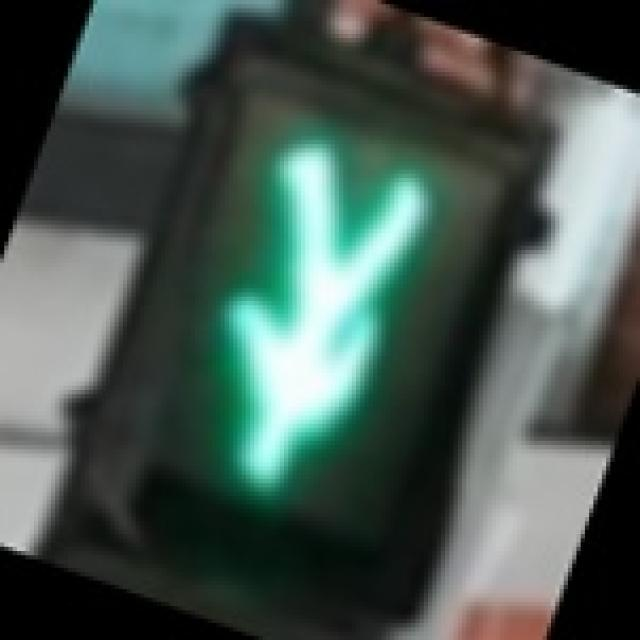geen-crossing: (101, 64, 522, 564)
